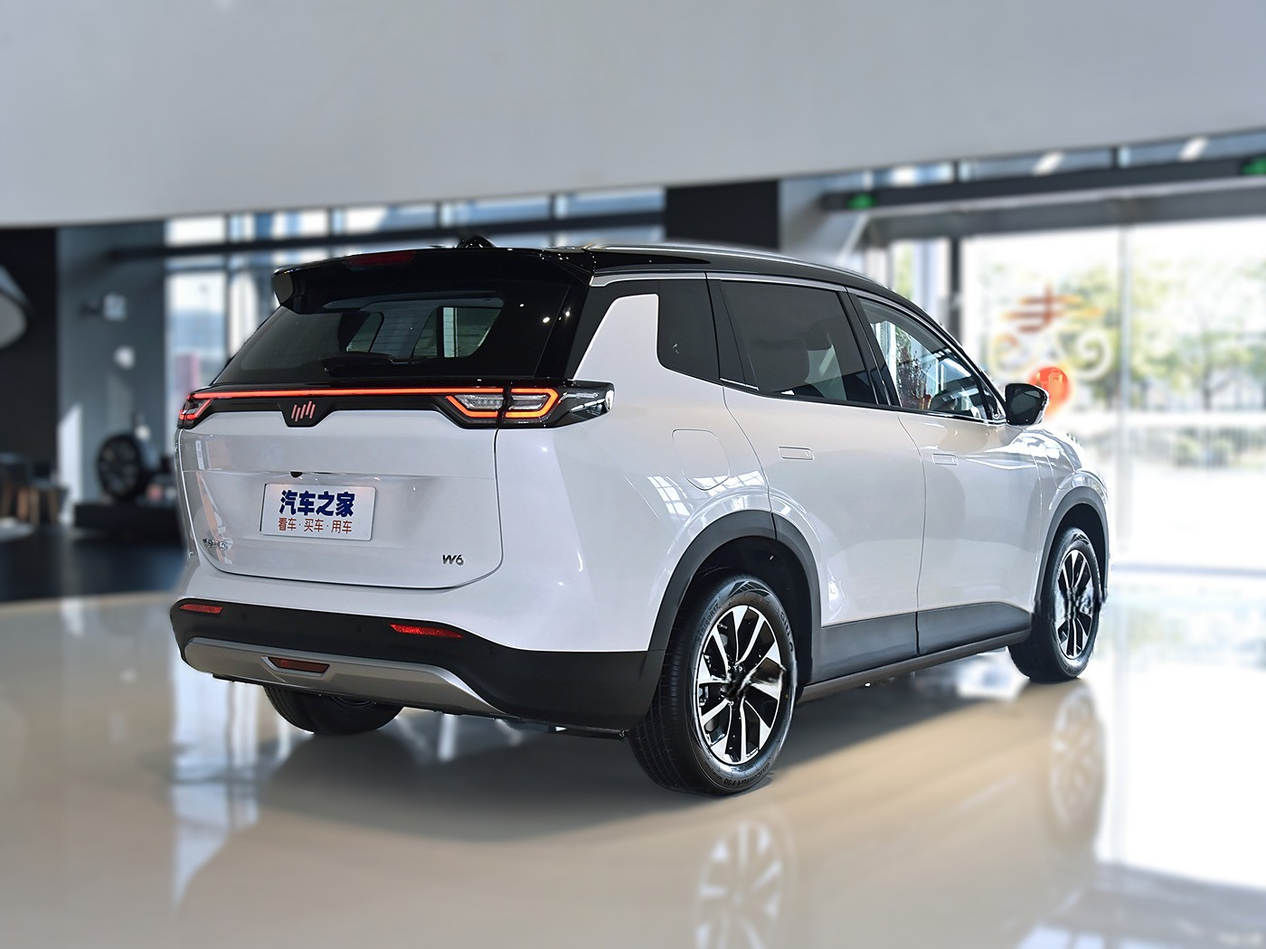WELTMEISTER: (292, 402, 315, 421)
